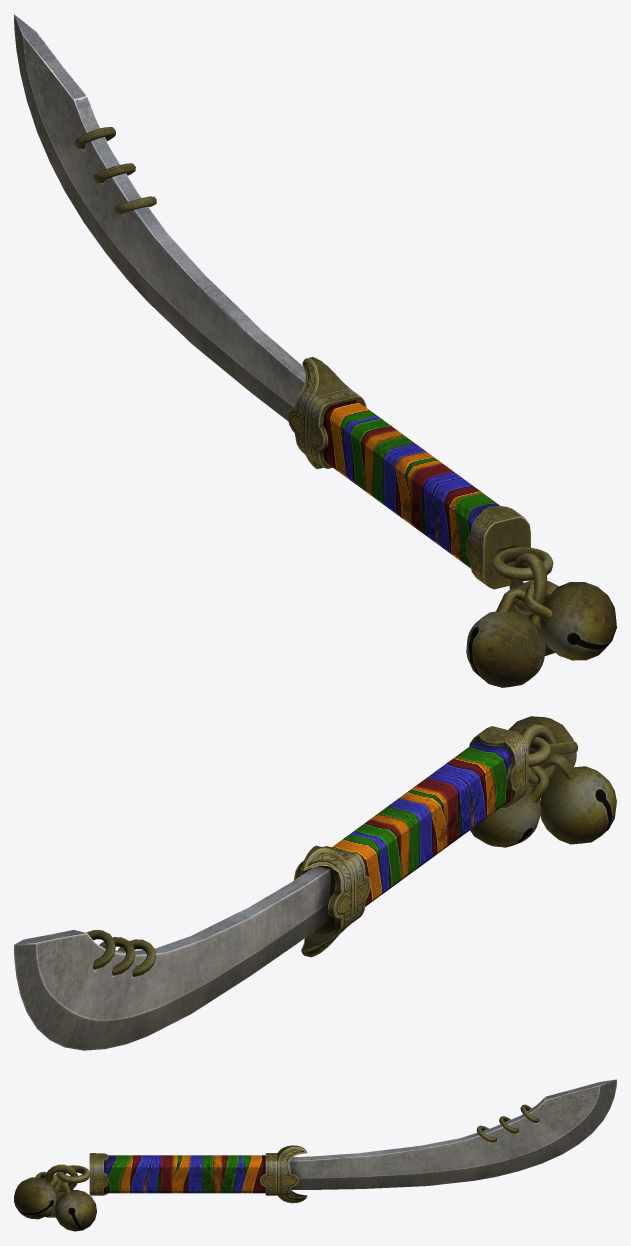
File: ShamanTools_PBIC2026.glb
3 views of the same model, one above another, from view 1: azimuth 30°, elevation 25°; view 2: azimuth 150°, elevation 25°; view 3: azimuth 270°, elevation 25° (orthographic). The views are drawn at different scales.
Visible parts, largest first — view 1: ShamanTools_PBIC2026_LOD0; view 2: ShamanTools_PBIC2026_LOD0; view 3: ShamanTools_PBIC2026_LOD0.
Boxes of the visible parts, left/top/right/bottom form: ShamanTools_PBIC2026_LOD0: left=14, top=14, right=616, bottom=687; ShamanTools_PBIC2026_LOD0: left=14, top=716, right=616, bottom=1050; ShamanTools_PBIC2026_LOD0: left=14, top=1079, right=616, bottom=1231.
Size of the model in its own units: 0.000753 by 0.00158 by 0.00591.
Materials: 1 (1 with a texture image).
